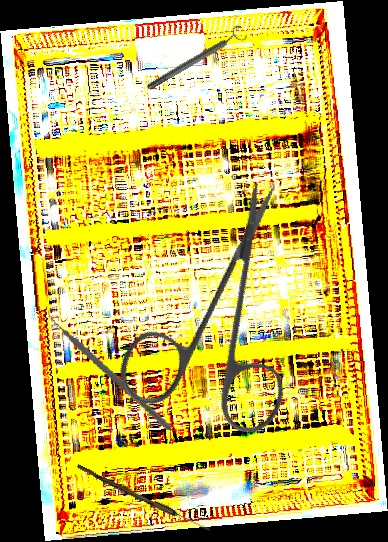Chopper: (30, 302, 191, 431)
Fixation Ring: (143, 23, 249, 95)
Iris Scissors: (68, 177, 370, 477)
Surgical Spoon: (75, 464, 212, 533)
